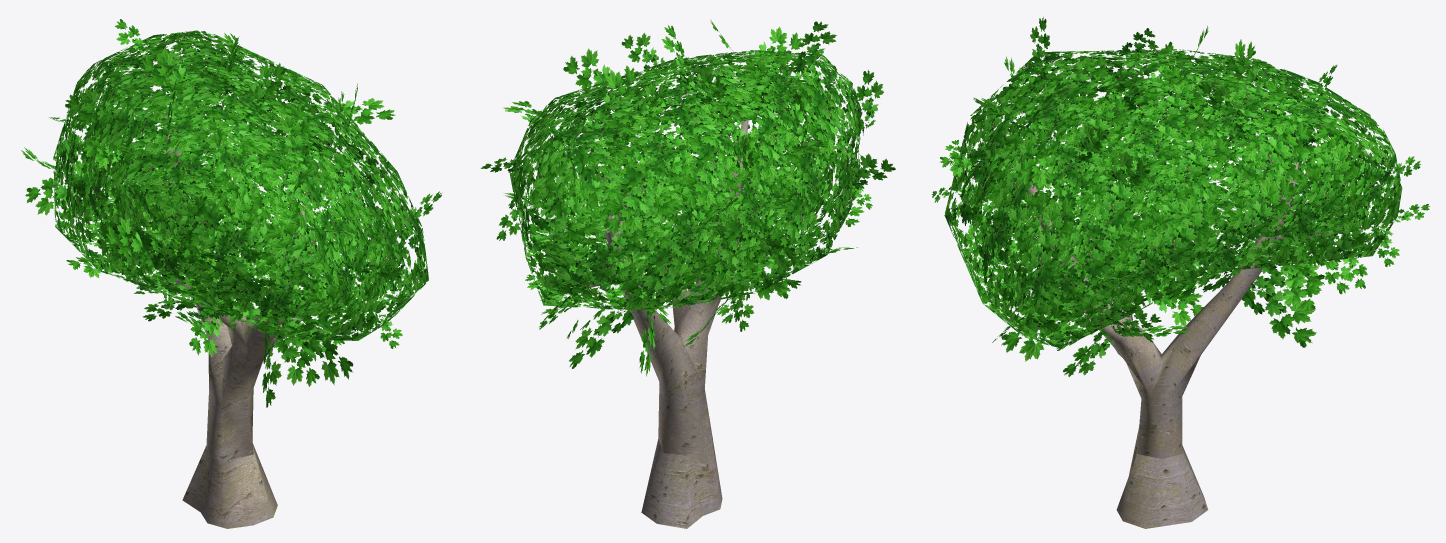
The model's file is Sycamore.glb.
The picture shows the model from 3 angles, left to right: view 1: azimuth 30°, elevation 25°; view 2: azimuth 150°, elevation 25°; view 3: azimuth 270°, elevation 25°; orthographic projection.
Visible parts, largest first — view 1: Sycamore, Sycamore_Stump; view 2: Sycamore, Sycamore_Stump; view 3: Sycamore, Sycamore_Stump.
Part boxes in pixels (x1,y1,x2,y2): Sycamore: [21, 19, 441, 461]; Sycamore_Stump: [182, 443, 277, 528]; Sycamore: [481, 20, 895, 455]; Sycamore_Stump: [641, 439, 722, 528]; Sycamore: [932, 17, 1429, 458]; Sycamore_Stump: [1116, 439, 1208, 528].
Bounding box in the file's own units: 5.88 × 7.53 × 7.24.
Materials: 4 (4 with a texture image).
